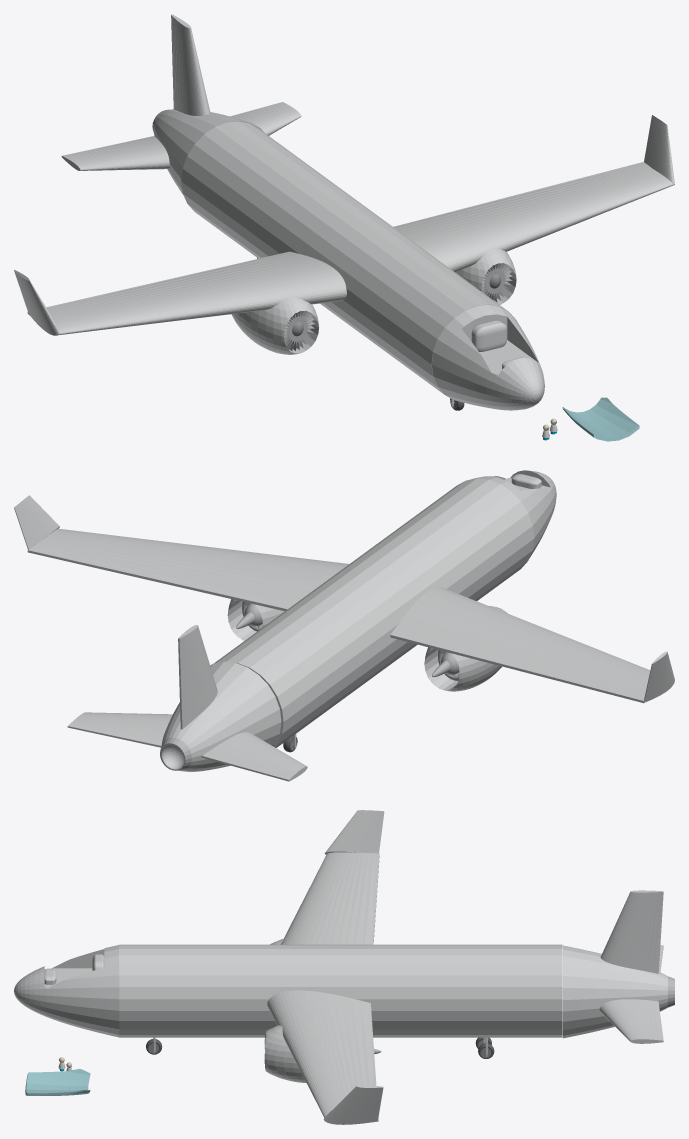
The model's file is Airplane.glb.
3 views of the same model, one above another, from view 1: azimuth 30°, elevation 25°; view 2: azimuth 150°, elevation 25°; view 3: azimuth 270°, elevation 25° (orthographic). The views are drawn at different scales.
Visible parts, largest first — view 1: Mesh_Mesh_head_geo.001_lambert2SG.001; view 2: Mesh_Mesh_head_geo.001_lambert2SG.001; view 3: Mesh_Mesh_head_geo.001_lambert2SG.001.
Boxes of the visible parts, left/top/right/bottom form: Mesh_Mesh_head_geo.001_lambert2SG.001: left=14, top=14, right=674, bottom=441; Mesh_Mesh_head_geo.001_lambert2SG.001: left=14, top=470, right=674, bottom=781; Mesh_Mesh_head_geo.001_lambert2SG.001: left=14, top=810, right=674, bottom=1124.
Bounding box in the file's own units: 0.1403 × 0.0387 × 0.1418.
